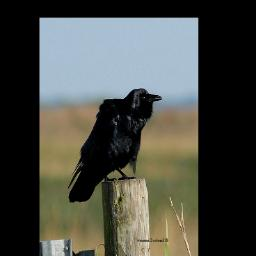Crow: (66, 88, 163, 205)
